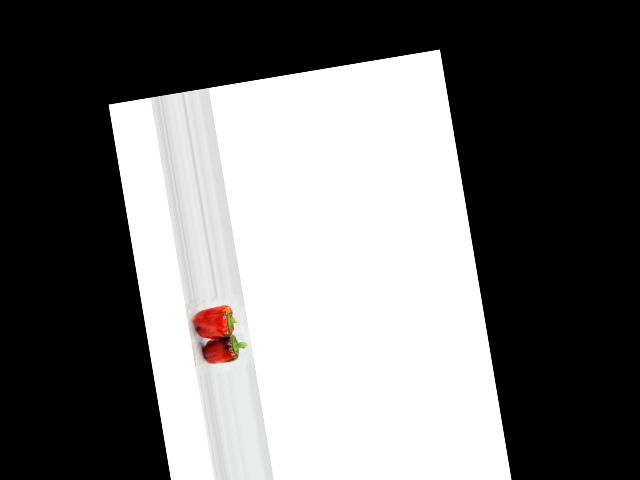bell_pepper: (190, 298, 241, 341)
